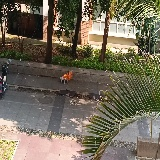fire: (62, 71, 72, 81)
